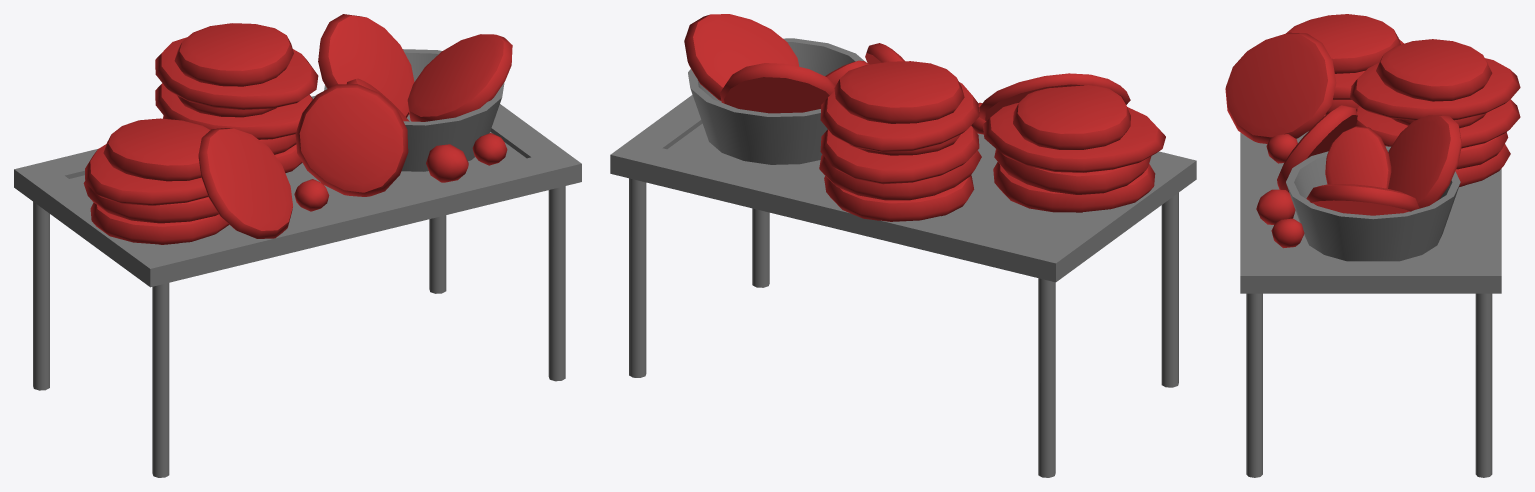
File: SM_table_market_03.fbx
3 views of the same model, side by side, from view 1: azimuth 30°, elevation 25°; view 2: azimuth 150°, elevation 25°; view 3: azimuth 270°, elevation 25° (orthographic). The views are drawn at different scales.
Visible parts, largest first — view 1: Cylinder424358; view 2: Cylinder424358; view 3: Cylinder424358.
Boxes of the visible parts, x1,y1,x2,y2 form: Cylinder424358: [14, 14, 581, 477]; Cylinder424358: [610, 14, 1196, 477]; Cylinder424358: [1225, 14, 1520, 477].
Bounding box in the file's own units: 70.34 × 48.79 × 42.39.
